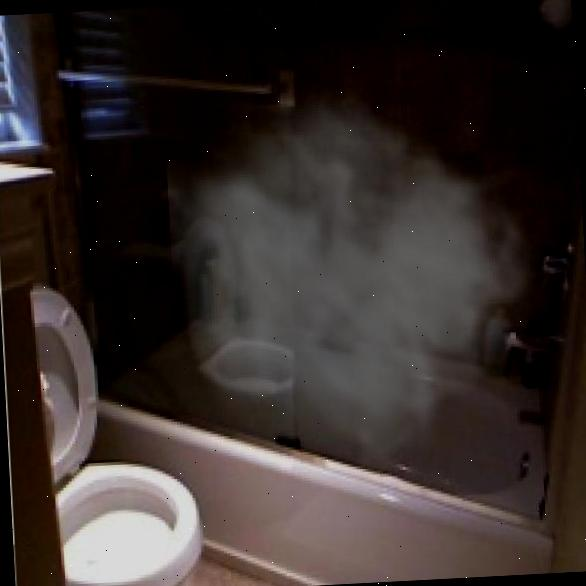smoke: (162, 60, 586, 489)
